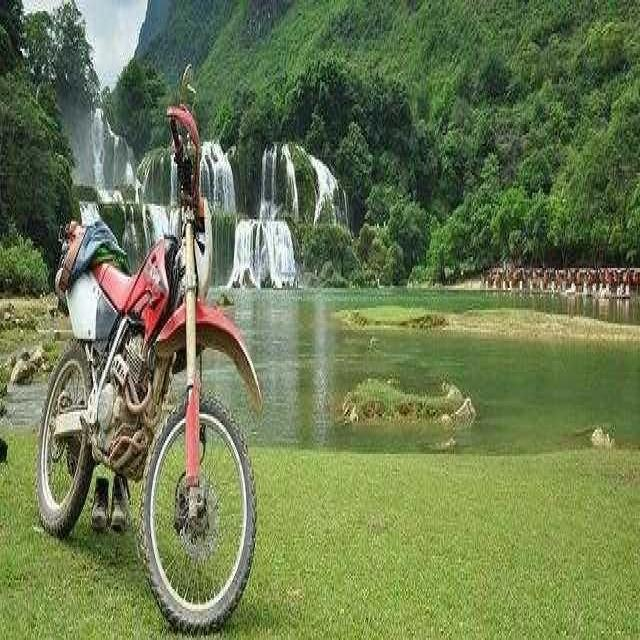Cycle: (36, 64, 264, 635)
